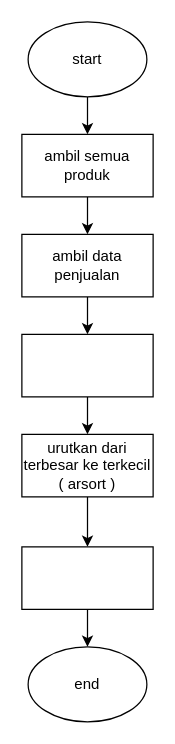
The diagram is 175 pixels wide and 744 high, and some of its shapes have lost their labels. The shapes that lost their labels are listed below. From the top down, each one's centre as x and y in pixels, then its label:
At pixel 87 365: "urutkan menjadi array".
At pixel 87 577: "tampilkan 10 barang".
